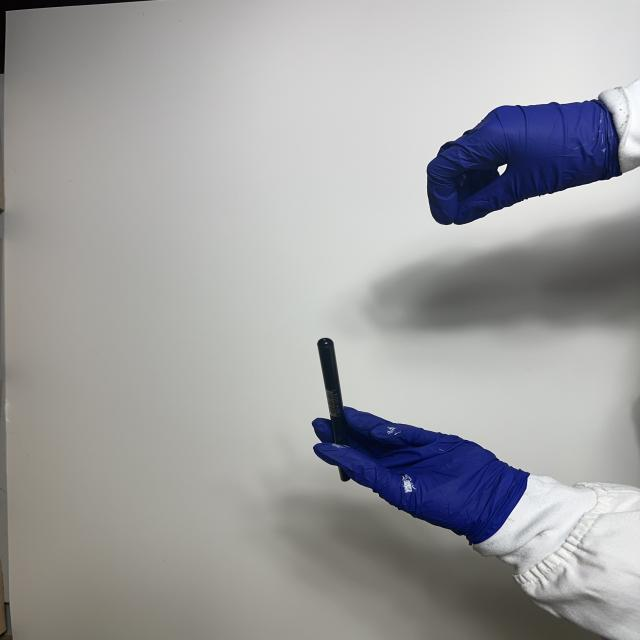gloves_contaminated: (312, 408, 528, 543), (427, 100, 632, 224)
